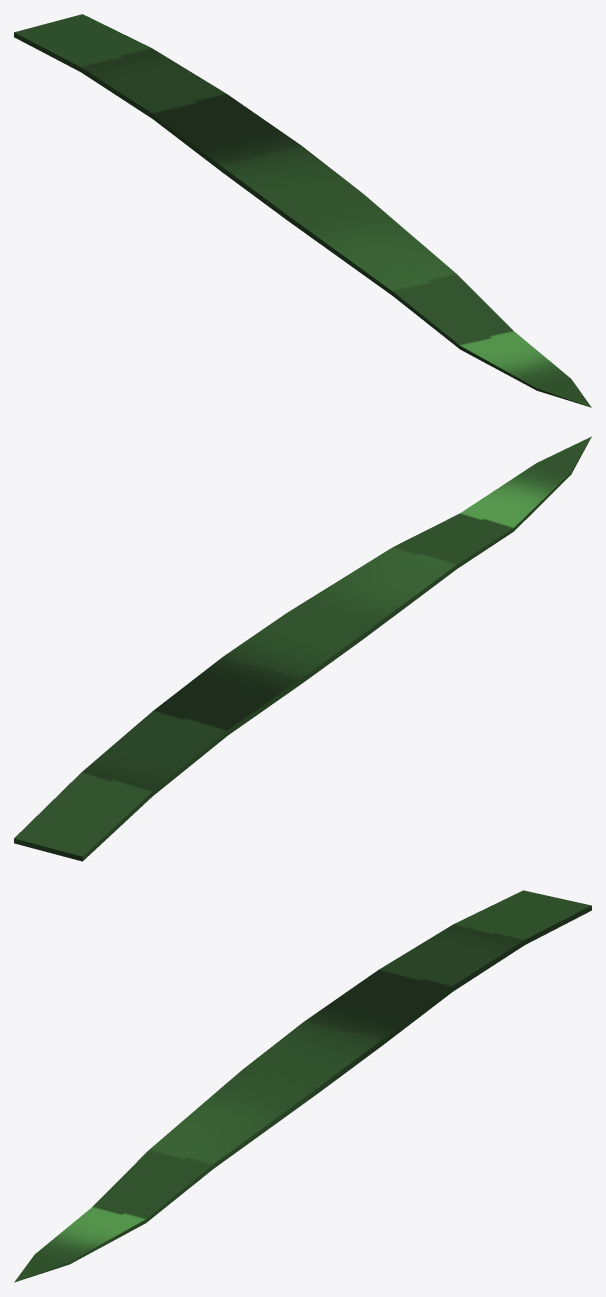
Rendered from sidewaygrass.fbx.
The picture shows the model from 3 angles, top to bottom: view 1: azimuth 30°, elevation 25°; view 2: azimuth 150°, elevation 25°; view 3: azimuth 330°, elevation 25°; orthographic projection.
Parts seen in each view (by area): view 1: Cube.018; view 2: Cube.018; view 3: Cube.018.
Part boxes in pixels (box(x1,y1,x2,y2)): Cube.018: box(14, 14, 591, 407); Cube.018: box(14, 436, 591, 861); Cube.018: box(14, 890, 591, 1282).
Bounding box in the file's own units: 11.89 × 4.34 × 141.
